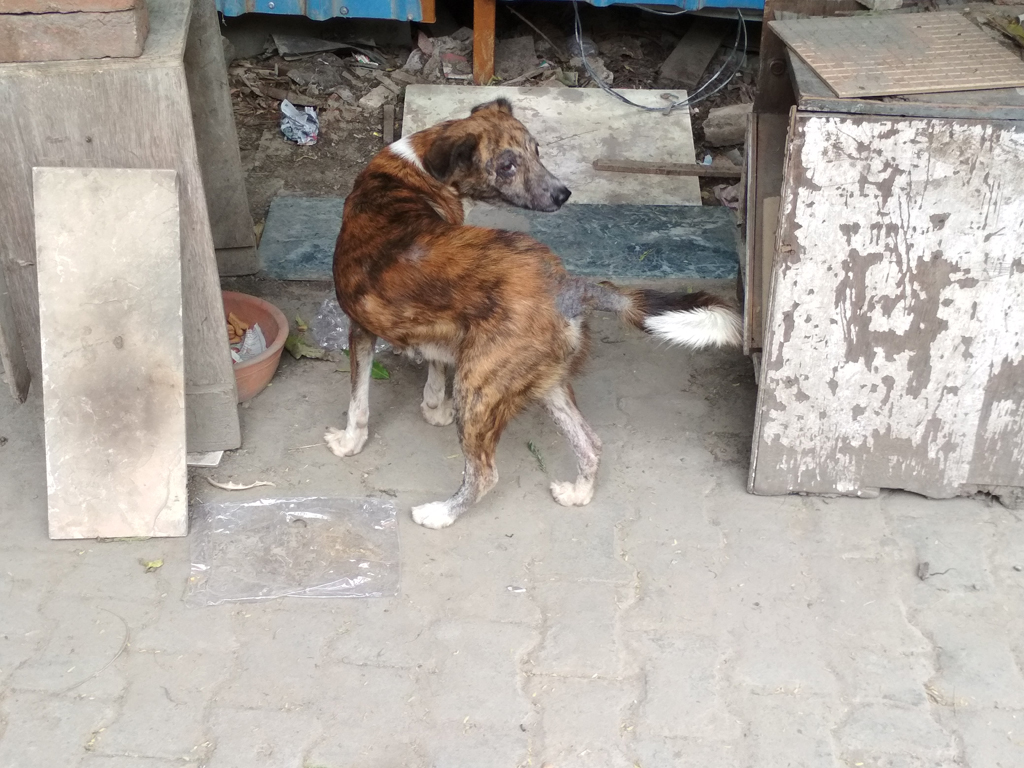dog: (321, 97, 743, 525)
